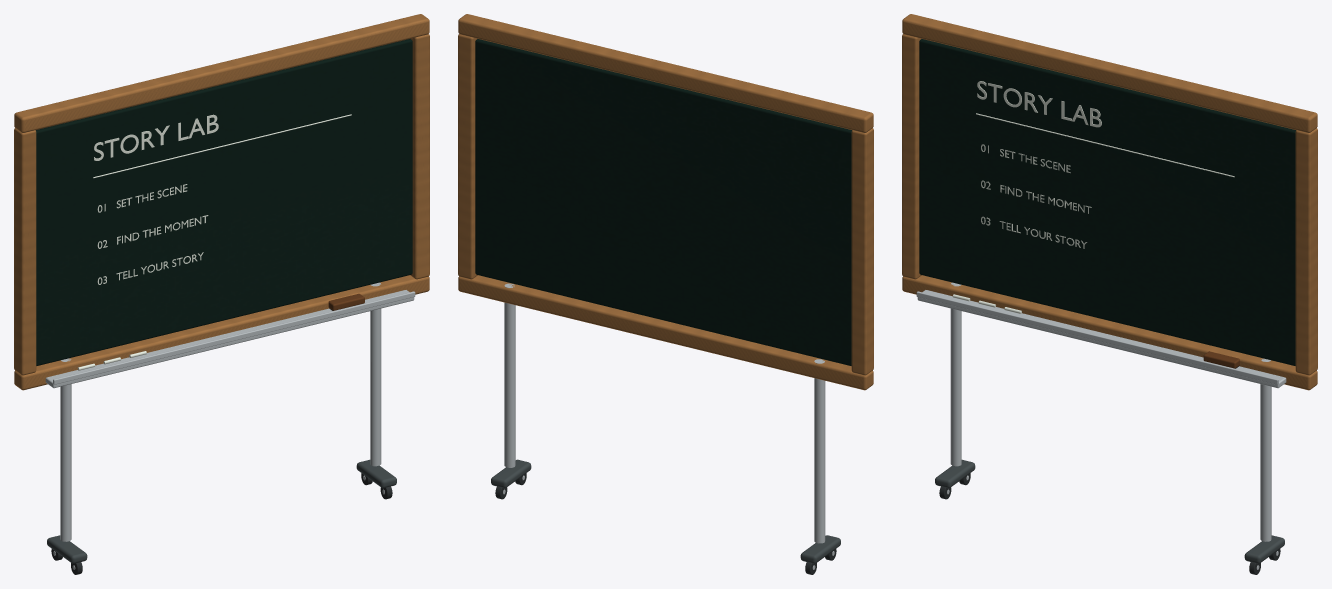
File: blackboard.glb
3 renders of one model, left to right at view 1: azimuth 30°, elevation 25°; view 2: azimuth 150°, elevation 25°; view 3: azimuth 330°, elevation 25°, orthographic.
Parts seen in each view (by area): view 1: GEO-Slate board, GEO-Oak horizontal moulding.001, GEO-Oak horizontal moulding, GEO-Oak vertical moulding, GEO-Oak vertical moulding.001, GEO-Aluminium chalk tray, GEO-Raised tray front lip, GEO-Steel stand upright.001, GEO-Steel stand upright, GEO-Board heading, GEO-Caster cross foot, GEO-Caster cross foot.001; view 2: GEO-Slate board, GEO-Oak horizontal moulding.001, GEO-Oak horizontal moulding, GEO-Oak vertical moulding, GEO-Oak vertical moulding.001, GEO-Steel stand upright, GEO-Steel stand upright.001, GEO-Caster cross foot.001, GEO-Caster cross foot; view 3: GEO-Slate board, GEO-Oak horizontal moulding.001, GEO-Oak horizontal moulding, GEO-Oak vertical moulding.001, GEO-Oak vertical moulding, GEO-Aluminium chalk tray, GEO-Raised tray front lip, GEO-Steel stand upright, GEO-Steel stand upright.001, GEO-Board heading, GEO-Caster cross foot, GEO-Caster cross foot.001.
Boxes of the visible parts, box(x1,y1,x2,y2) form: GEO-Slate board: box(36, 39, 412, 365); GEO-Oak horizontal moulding.001: box(14, 14, 429, 132); GEO-Oak horizontal moulding: box(14, 275, 429, 390); GEO-Oak vertical moulding: box(14, 128, 36, 375); GEO-Oak vertical moulding.001: box(410, 34, 429, 279); GEO-Aluminium chalk tray: box(45, 290, 414, 388); GEO-Raised tray front lip: box(53, 291, 415, 384); GEO-Steel stand upright.001: box(370, 282, 381, 466); GEO-Steel stand upright: box(60, 358, 71, 541); GEO-Board heading: box(94, 114, 218, 160); GEO-Caster cross foot: box(47, 535, 87, 563); GEO-Caster cross foot.001: box(356, 459, 396, 488); GEO-Slate board: box(475, 39, 851, 365); GEO-Oak horizontal moulding.001: box(458, 14, 873, 132); GEO-Oak horizontal moulding: box(458, 275, 873, 390); GEO-Oak vertical moulding: box(851, 128, 873, 375); GEO-Oak vertical moulding.001: box(458, 34, 477, 279); GEO-Steel stand upright: box(814, 359, 825, 543); GEO-Steel stand upright.001: box(504, 283, 515, 467); GEO-Caster cross foot.001: box(491, 459, 531, 488); GEO-Caster cross foot: box(800, 535, 840, 563); GEO-Slate board: box(919, 39, 1295, 365); GEO-Oak horizontal moulding.001: box(902, 14, 1317, 132); GEO-Oak horizontal moulding: box(902, 275, 1317, 390); GEO-Oak vertical moulding.001: box(1295, 128, 1317, 375); GEO-Oak vertical moulding: box(902, 34, 921, 279); GEO-Aluminium chalk tray: box(917, 290, 1286, 388); GEO-Raised tray front lip: box(916, 291, 1278, 384); GEO-Steel stand upright: box(950, 282, 961, 466); GEO-Steel stand upright.001: box(1260, 358, 1271, 541); GEO-Board heading: box(977, 81, 1101, 127); GEO-Caster cross foot: box(935, 459, 975, 488); GEO-Caster cross foot.001: box(1244, 535, 1284, 563).
Size of the model in its own units: 1.9 by 2.06 by 0.213.
7 materials, 3 textured.
